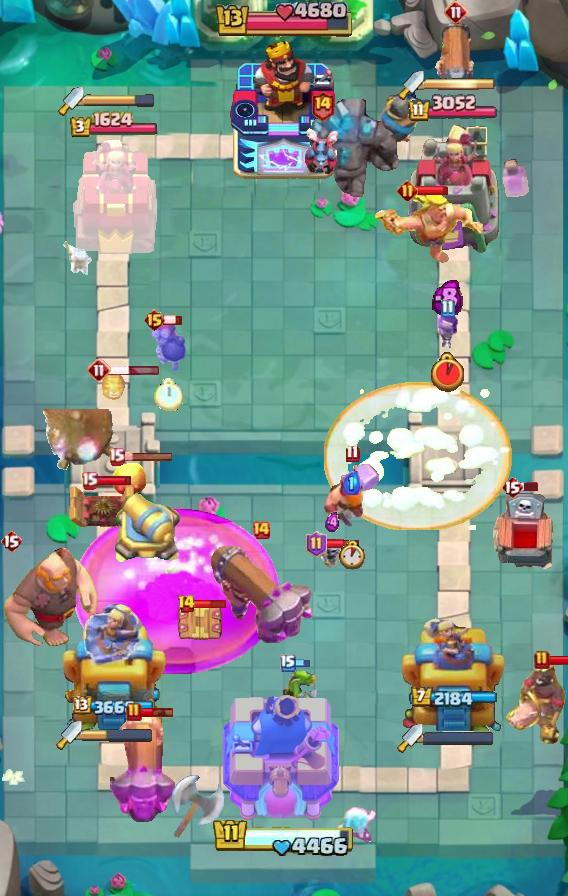balloon: (0, 548, 100, 652)
bar: (59, 595, 169, 731), (406, 122, 500, 256), (402, 615, 507, 731), (70, 138, 158, 256)
bat: (334, 806, 378, 842)
battle-healer: (434, 12, 478, 96)
cannoneer-tower: (304, 99, 402, 201)
clock: (212, 817, 356, 859), (213, 2, 355, 40)
electro-spirit: (432, 279, 463, 316), (343, 471, 361, 495), (325, 511, 339, 532)
elixir: (431, 352, 464, 392), (154, 378, 183, 410), (337, 540, 366, 570)
elixir-golem-mid: (490, 492, 560, 578)
emote: (108, 364, 160, 375), (122, 451, 174, 462), (325, 538, 360, 551), (139, 706, 175, 718), (192, 598, 227, 610), (95, 474, 132, 485), (415, 185, 449, 196), (163, 314, 183, 326), (548, 654, 568, 666), (520, 481, 540, 492), (293, 657, 311, 669)
firecracker: (368, 92, 426, 153)
freeze: (504, 661, 568, 747)
furnace: (208, 541, 314, 647), (110, 710, 178, 822)
goblin: (432, 312, 463, 348)
goblin-brawler: (68, 482, 138, 532), (176, 600, 226, 646)
goblin-hut: (359, 188, 485, 266)
heal-spirit: (63, 240, 93, 276), (319, 540, 345, 570)
hog: (112, 459, 146, 497)
ice-golem: (149, 316, 187, 372)
ice-spirit-evolution: (99, 369, 127, 401)
king-tower: (223, 689, 345, 826), (230, 41, 338, 181)
king-tower-bar: (424, 77, 496, 91), (84, 93, 156, 107), (82, 728, 154, 742), (423, 731, 495, 745)
knight-evolution: (72, 508, 280, 675), (502, 159, 531, 198)
mighty-miner: (322, 458, 382, 532)
phoenix-big: (324, 382, 512, 530)
royal-delivery: (303, 126, 341, 176)
royal-giant: (169, 772, 227, 844)
royal-recruit: (112, 492, 186, 568)
selected: (407, 94, 499, 123), (69, 111, 159, 139), (411, 687, 498, 709), (72, 695, 155, 716)
text: (309, 91, 334, 122), (444, 0, 468, 24), (87, 358, 111, 382), (305, 531, 327, 557), (143, 308, 166, 332), (501, 475, 523, 499), (0, 529, 22, 553), (398, 180, 419, 201), (251, 520, 271, 540), (177, 594, 196, 614), (107, 447, 124, 466), (82, 470, 99, 489), (534, 650, 550, 670), (126, 702, 142, 722), (280, 654, 296, 672), (344, 444, 359, 463), (440, 299, 455, 317)
x-bow: (37, 408, 119, 471)
zap: (281, 666, 321, 704)
